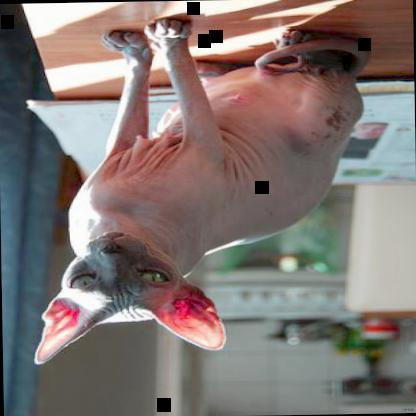cat: (28, 14, 378, 366)
